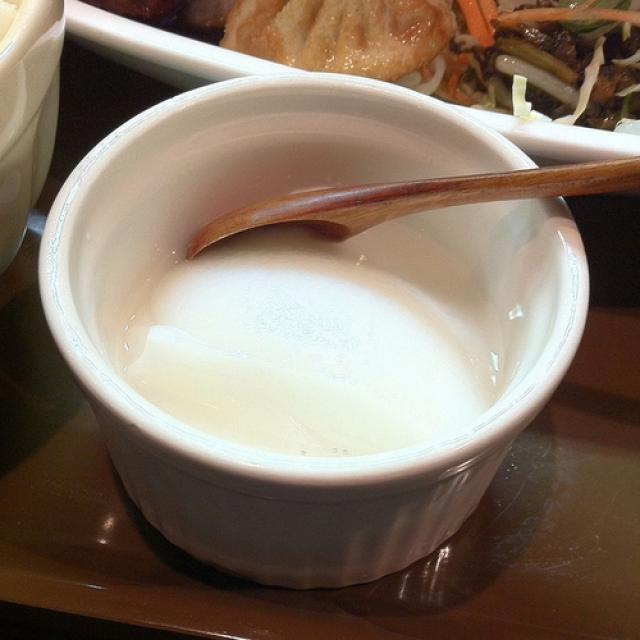牛肉菜式: (60, 54, 584, 622)
